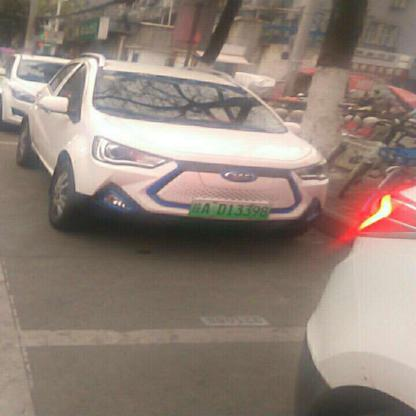lp: (189, 200, 269, 218)
